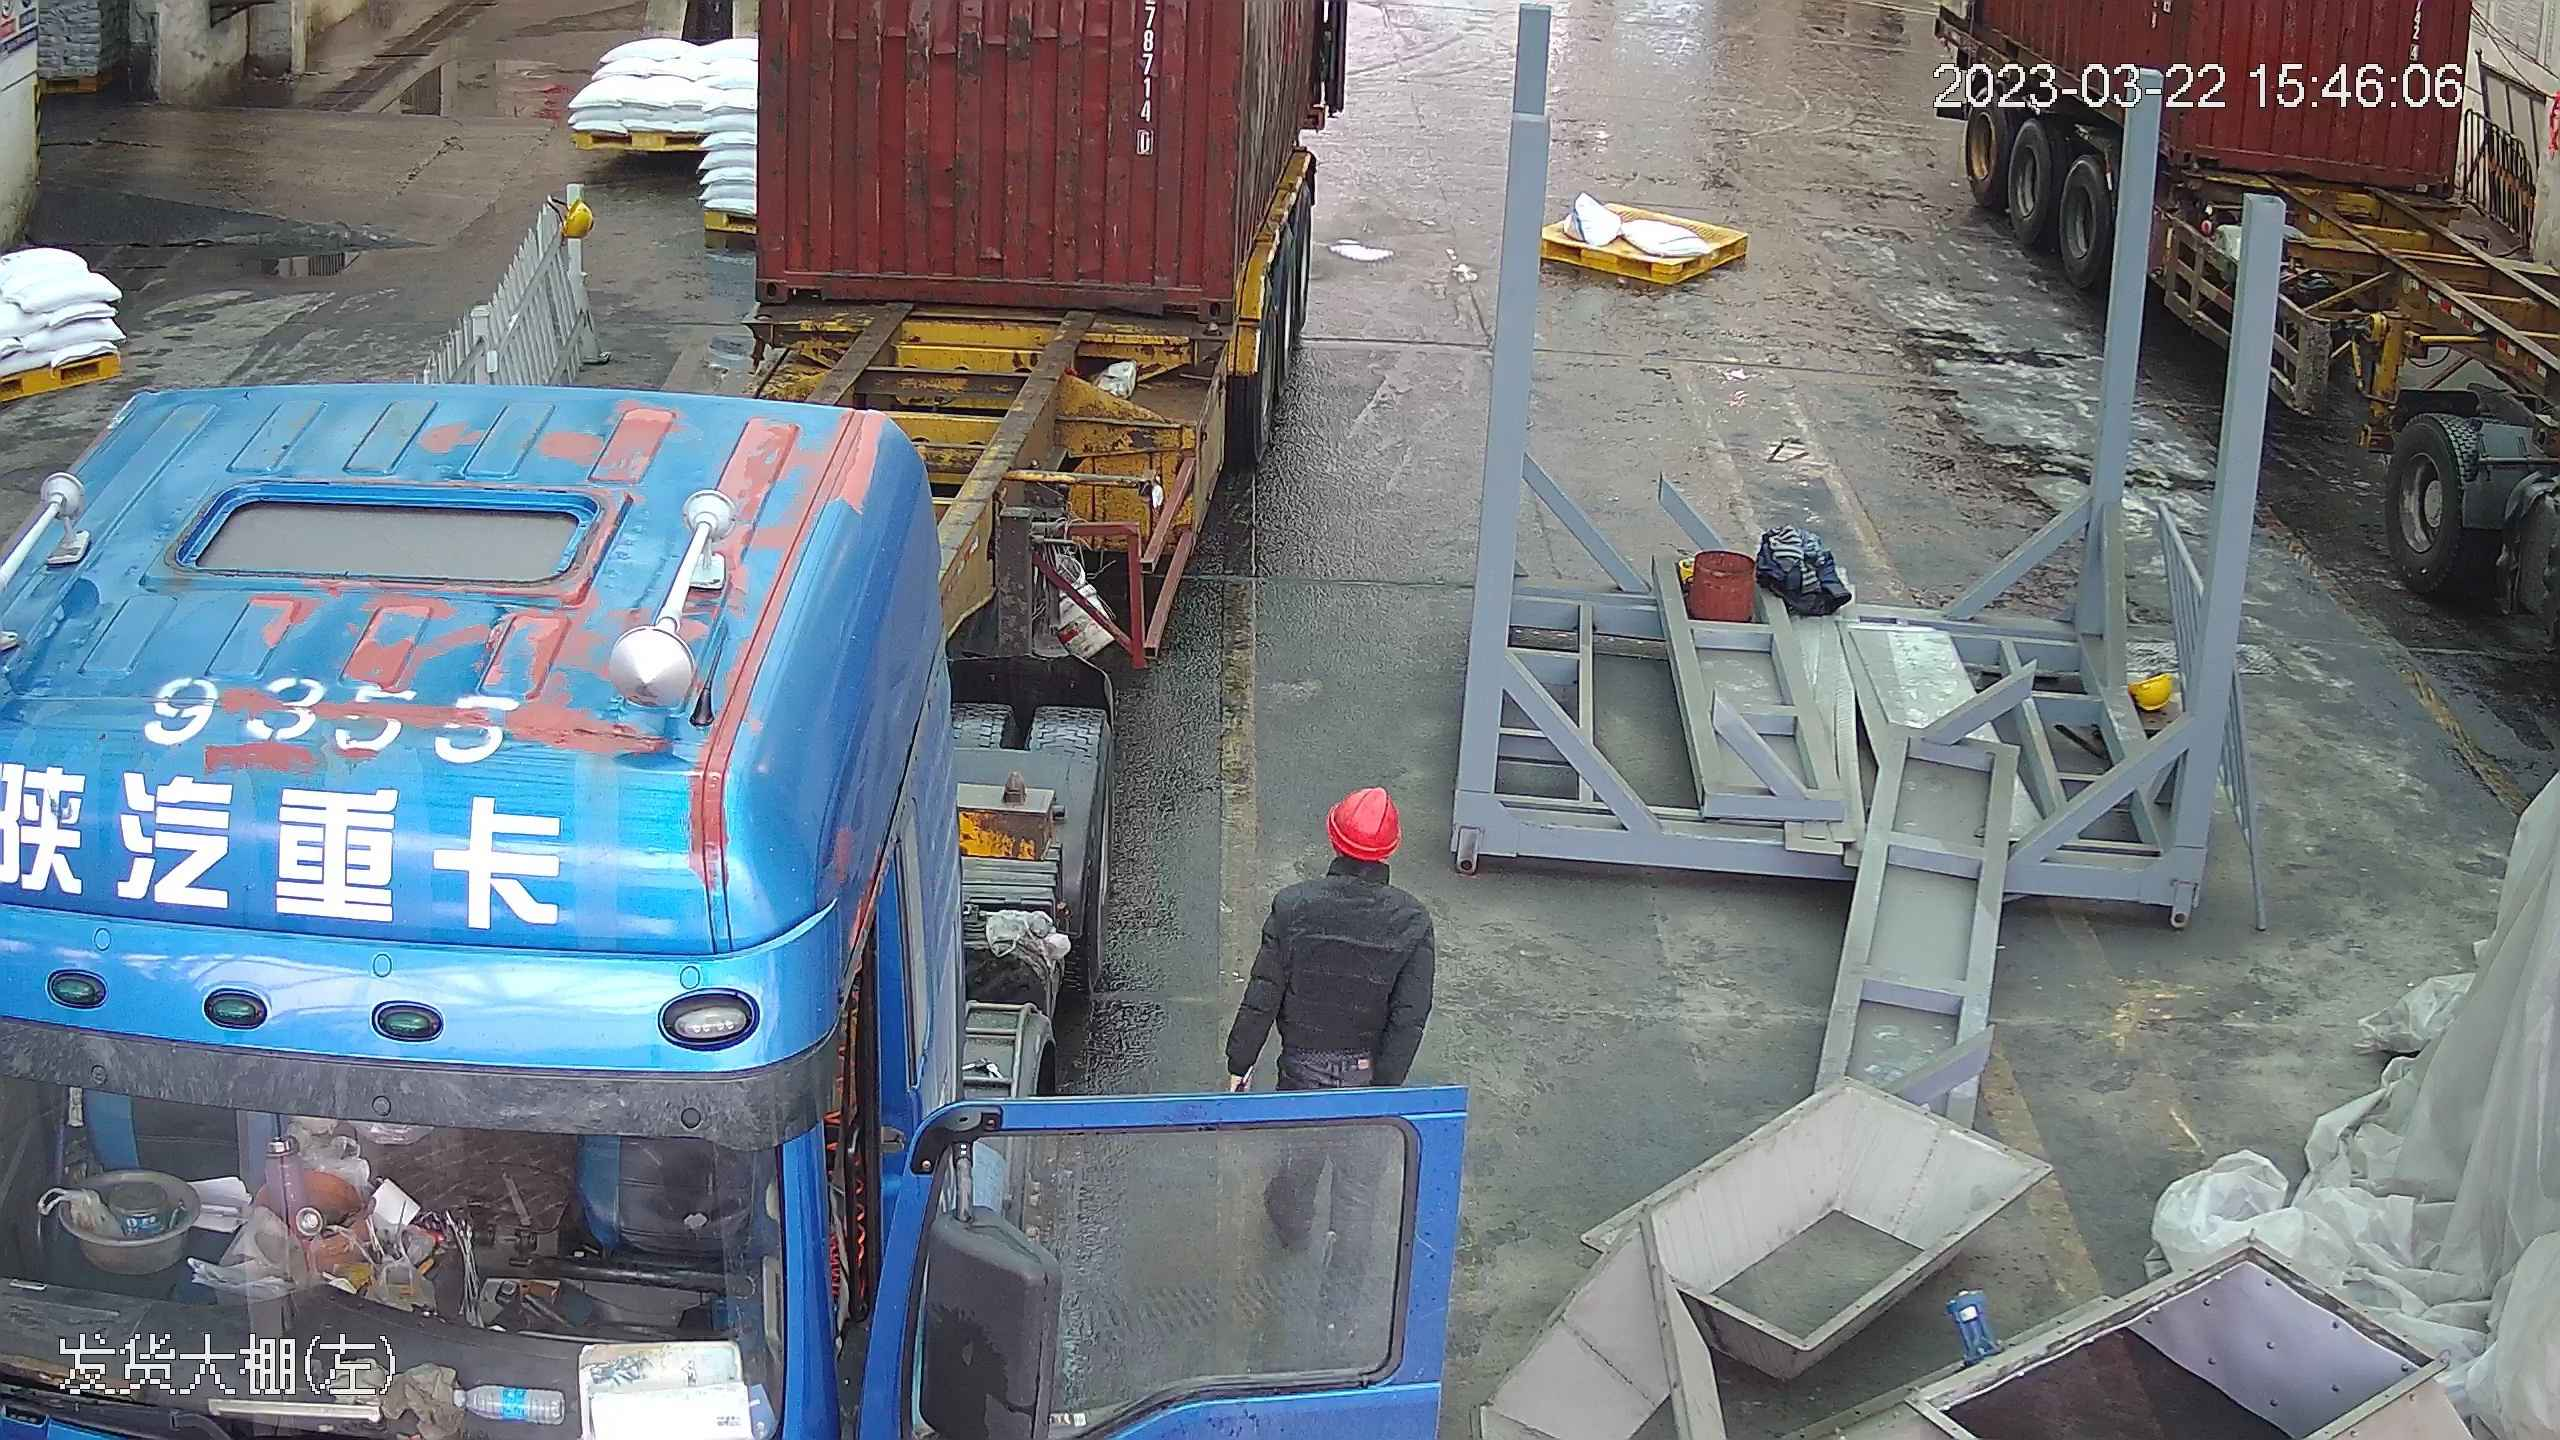head: (1257, 785, 1431, 960)
helmet: (1323, 786, 1405, 859), (559, 196, 593, 232)
people: (1230, 783, 1436, 1093)
truck: (3, 214, 1098, 1434)
